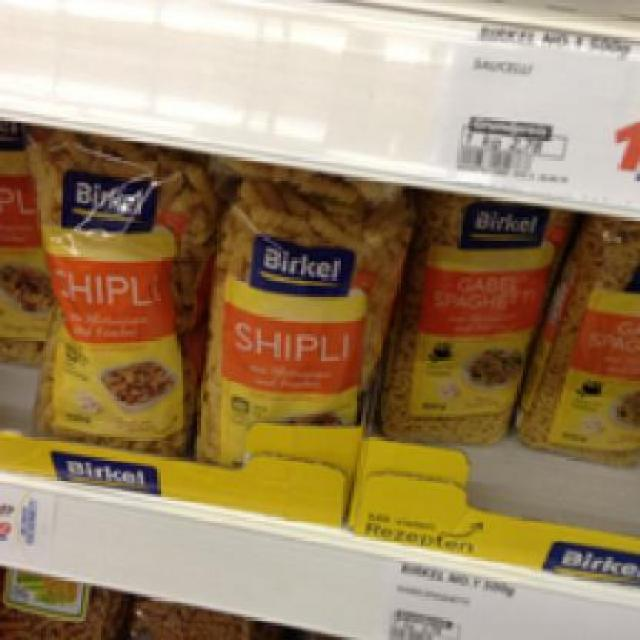Pasta: (188, 186, 406, 463), (20, 128, 197, 446), (388, 191, 564, 440), (514, 214, 634, 460)
